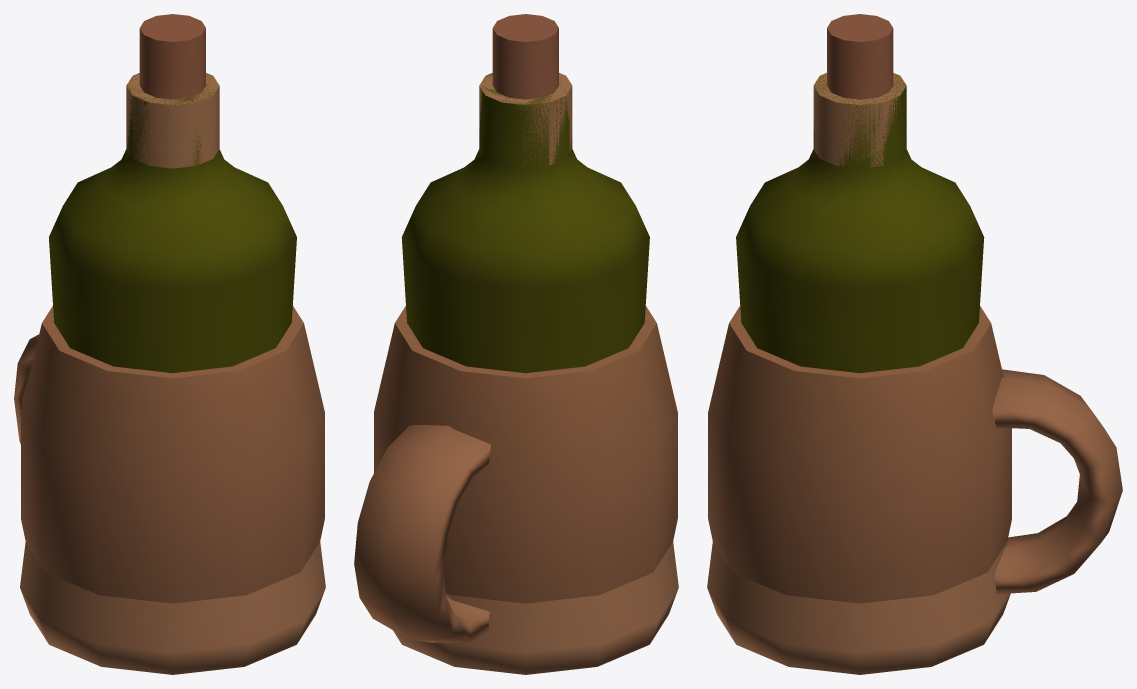
The model's file is MSH_Bottles.fbx.
3 renders of one model, left to right at view 1: azimuth 30°, elevation 25°; view 2: azimuth 150°, elevation 25°; view 3: azimuth 270°, elevation 25°, orthographic.
Parts seen in each view (by area): view 1: MSH_Mug, MSH_Bottle_B, MSH_Bottle_A; view 2: MSH_Mug, MSH_Bottle_B, MSH_Bottle_A; view 3: MSH_Mug, MSH_Bottle_B, MSH_Bottle_A.
Part boxes in pixels (x1,y1,x2,y2): MSH_Mug: (14, 305, 324, 603); MSH_Bottle_B: (49, 14, 296, 373); MSH_Bottle_A: (20, 14, 325, 674); MSH_Mug: (354, 306, 677, 642); MSH_Bottle_B: (401, 14, 649, 373); MSH_Bottle_A: (393, 14, 678, 674); MSH_Mug: (708, 306, 1122, 603); MSH_Bottle_B: (736, 14, 984, 373); MSH_Bottle_A: (707, 14, 1010, 674).
Size of the model in its own units: 33.36 by 71.94 by 45.33.
